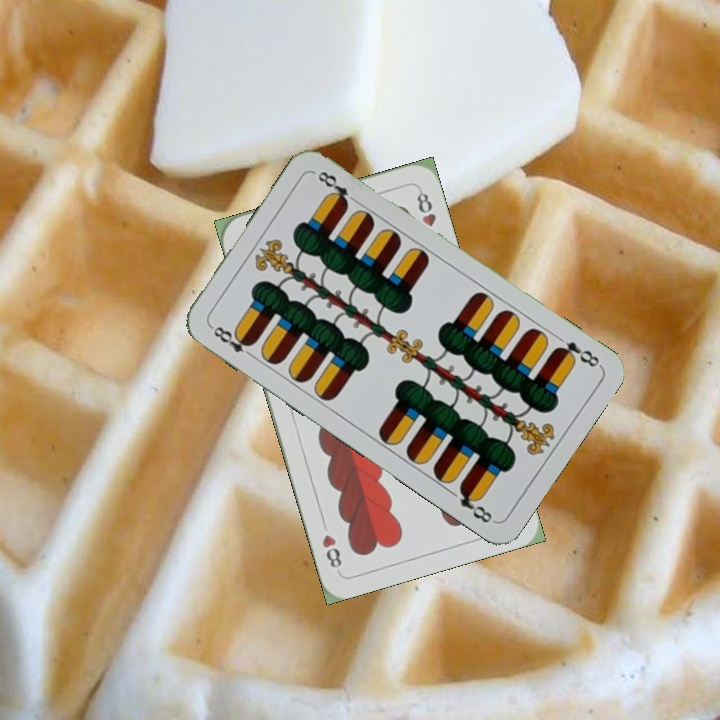E8: (206, 321, 258, 361), (550, 337, 603, 370)
